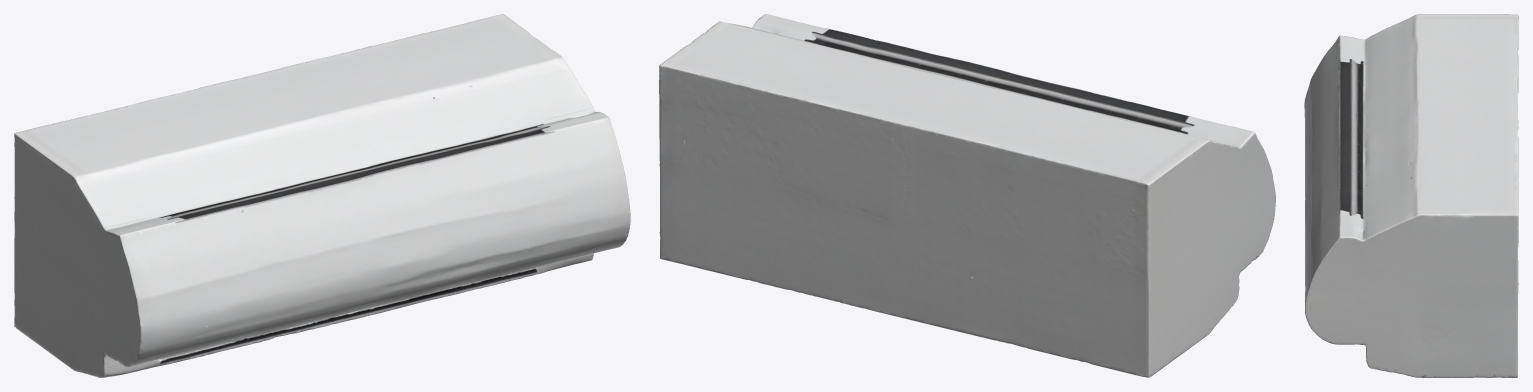
The model's file is Meshy_AI_Wall_mounted_air_cond_0701110406_texture.glb.
3 views of the same model, side by side, from view 1: azimuth 30°, elevation 25°; view 2: azimuth 150°, elevation 25°; view 3: azimuth 270°, elevation 25° (orthographic). The views are drawn at different scales.
Bounding box in the file's own units: 2 × 0.7586 × 0.8988.
1 material, 1 textured.
